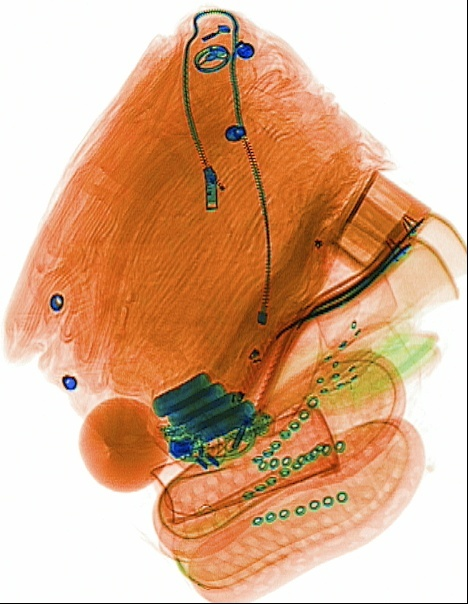powerbank: (143, 363, 273, 470)
